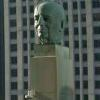Statue: (22, 0, 74, 57)
